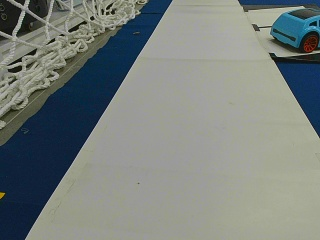car: (270, 8, 319, 52)
